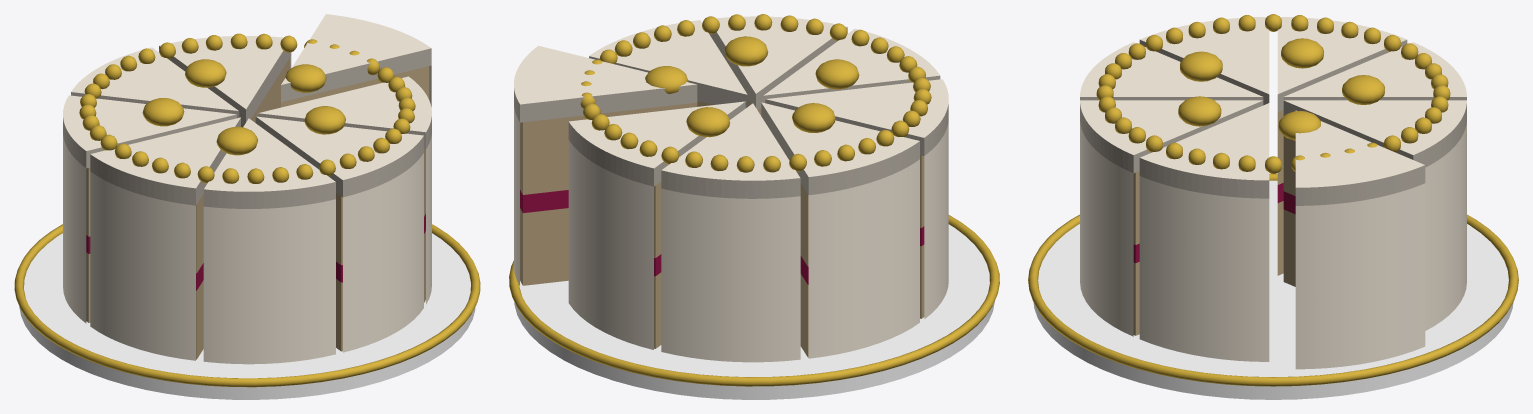
The model's file is torta-18cm-10alto-1p-8porc-vainilla.glb.
The picture shows the model from 3 angles, left to right: view 1: azimuth 30°, elevation 25°; view 2: azimuth 150°, elevation 25°; view 3: azimuth 270°, elevation 25°; orthographic projection. The views are drawn at different scales.
Size of the model in its own units: 0.245 by 0.1216 by 0.245.
